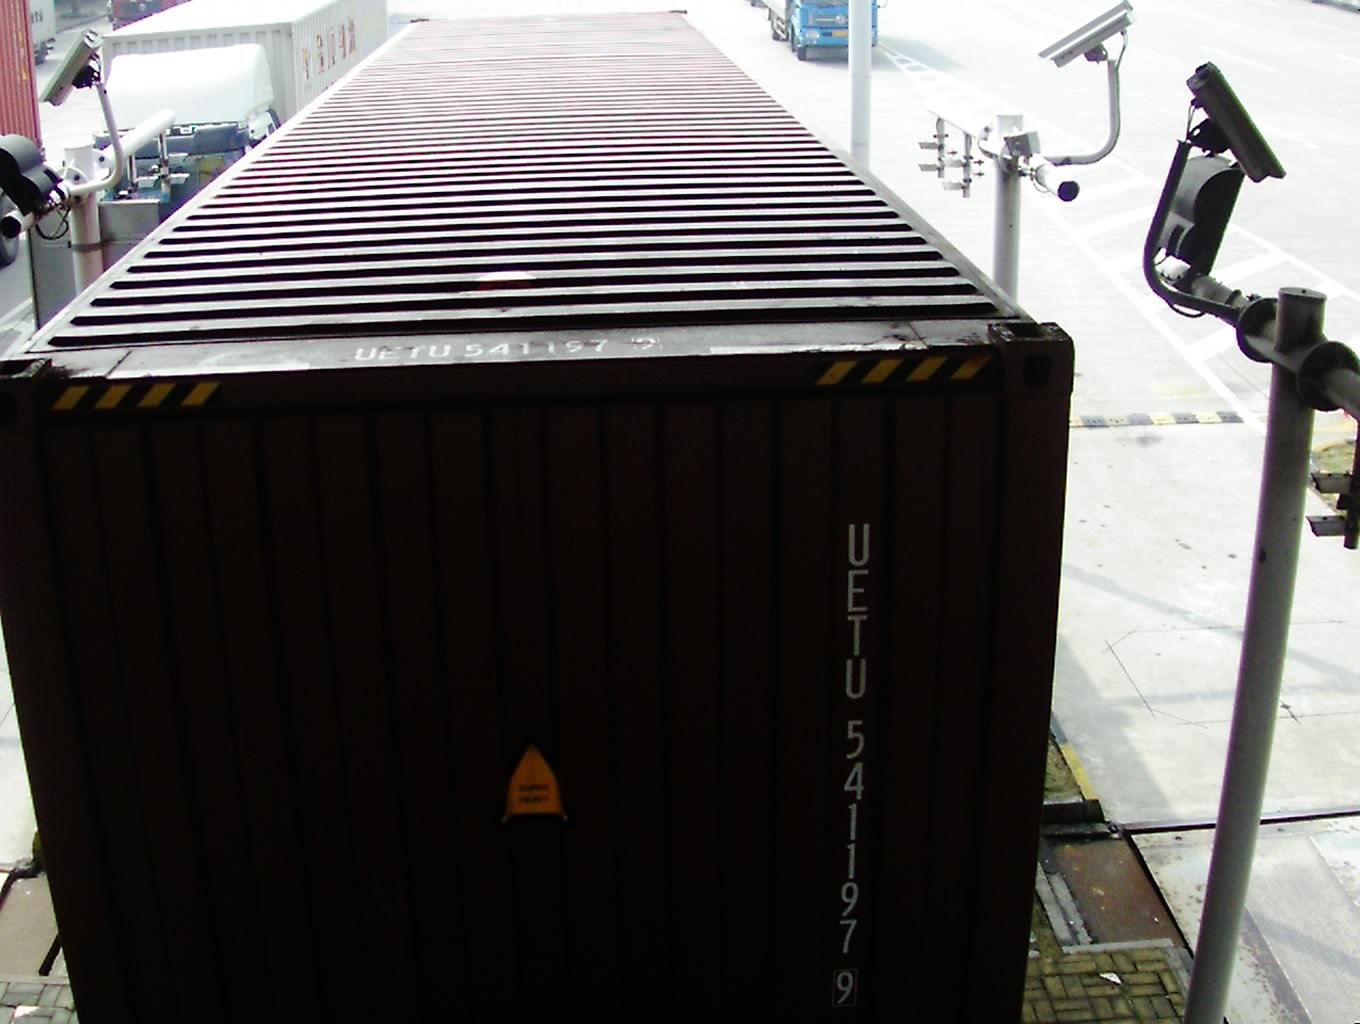words: (830, 513, 878, 1013)
